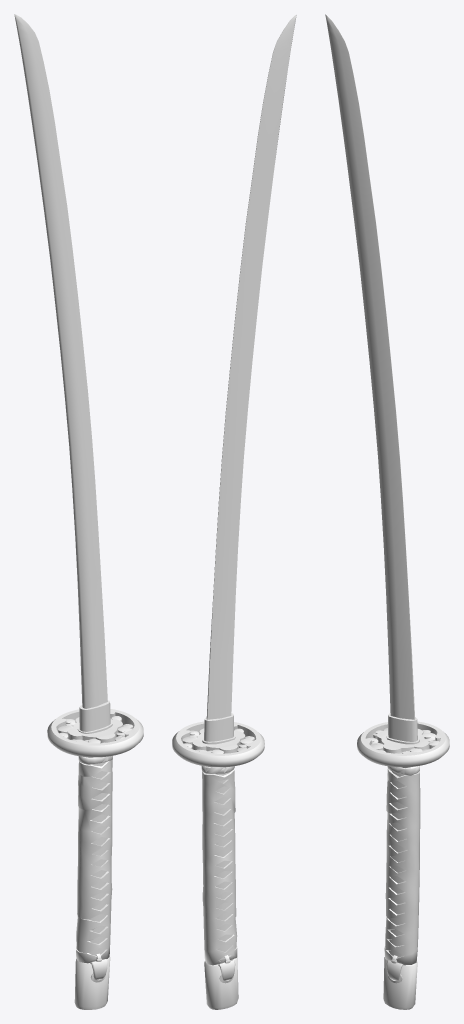
File: STTKatana.obj
The picture shows the model from 3 angles, left to right: view 1: azimuth 30°, elevation 25°; view 2: azimuth 210°, elevation 25°; view 3: azimuth 330°, elevation 25°; orthographic projection. The views are drawn at different scales.
Parts seen in each view (by area): view 1: Katana_Root; view 2: Katana_Root; view 3: Katana_Root.
Boxes of the visible parts, x1,y1,x2,y2 form: Katana_Root: (14, 14, 143, 1009); Katana_Root: (172, 14, 296, 1009); Katana_Root: (325, 14, 449, 1009).
Size of the model in its own units: 0.1399 by 1.1 by 0.0948.
